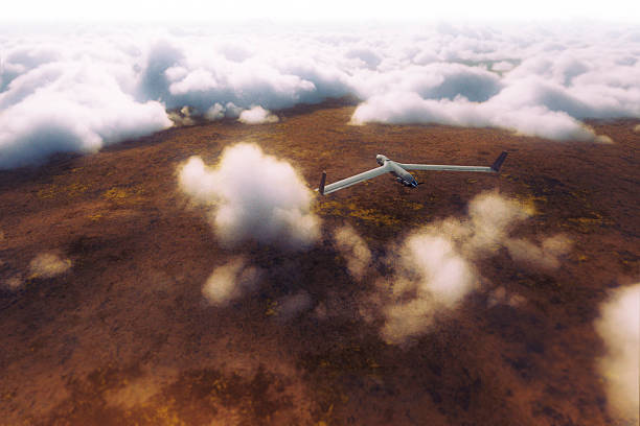military drone: (315, 150, 507, 195)
